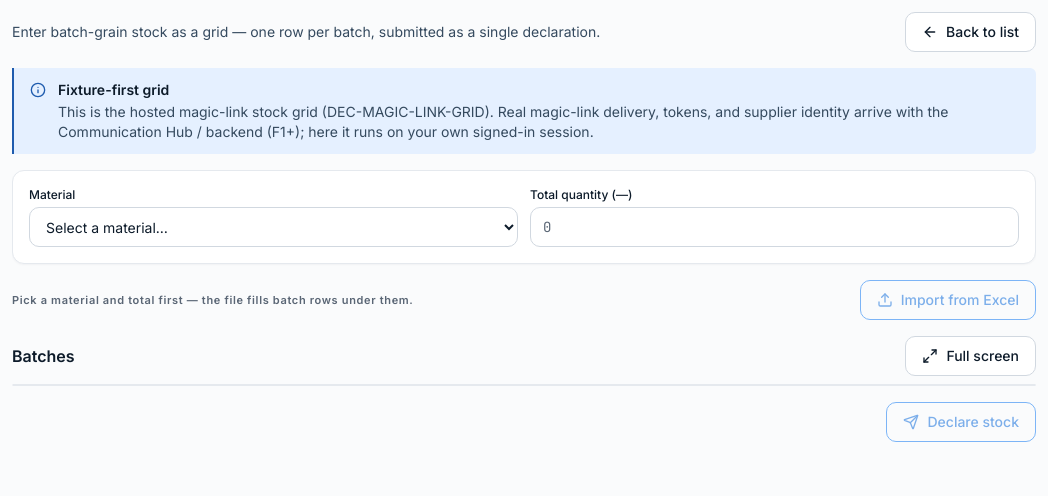
Test: BulkStockEntryGrid — the Σ banner reads the ONE parse (CP-0 · 2d) › an UNREADABLE total says so rather than showing a confident zero
The width and height of the screenshot is (1048, 496).
Select "PK-PETB-8810 — PET Bottle 250ml (PCS)" in the dropdown with id "sdcsup-bulk-material" at [274, 227], box [29, 207, 518, 247]
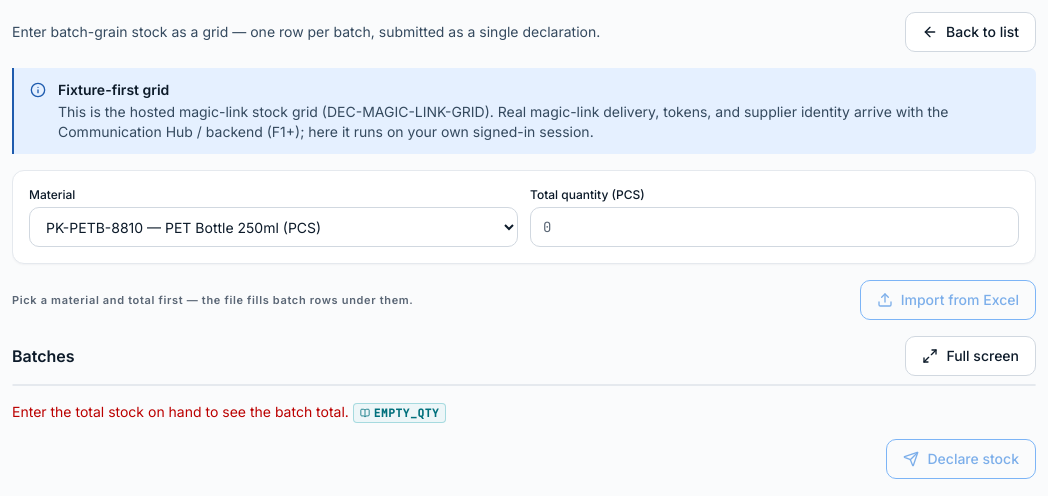
Type "plenty" into the field with id "sdcsup-bulk-total" at [774, 227], box [530, 207, 1019, 247]
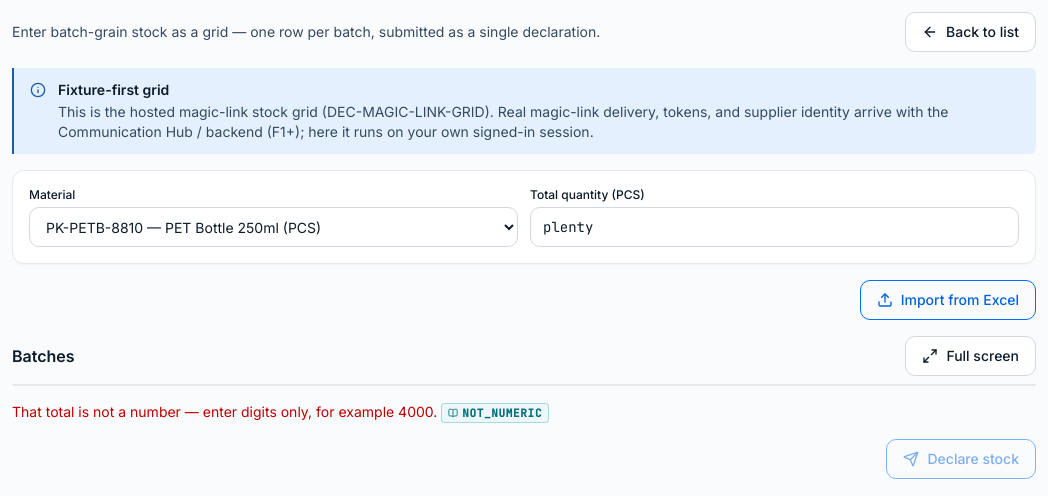
Expected: the element with test id "sdcsup-bulk-summary" shows "not a number", [12, 403, 437, 420]
